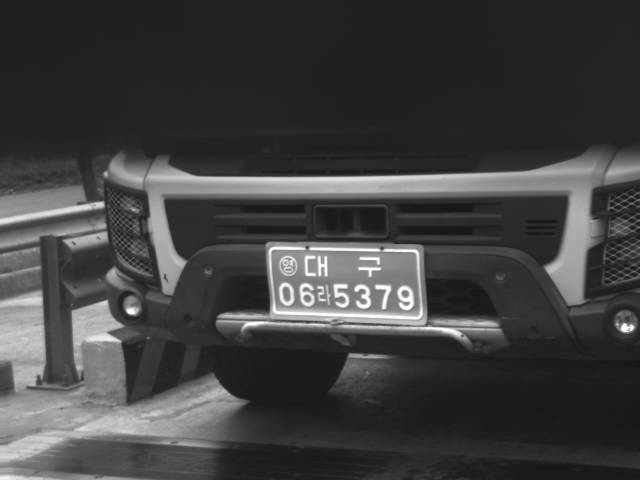car: (102, 114, 638, 406)
plate: (265, 242, 425, 323)
